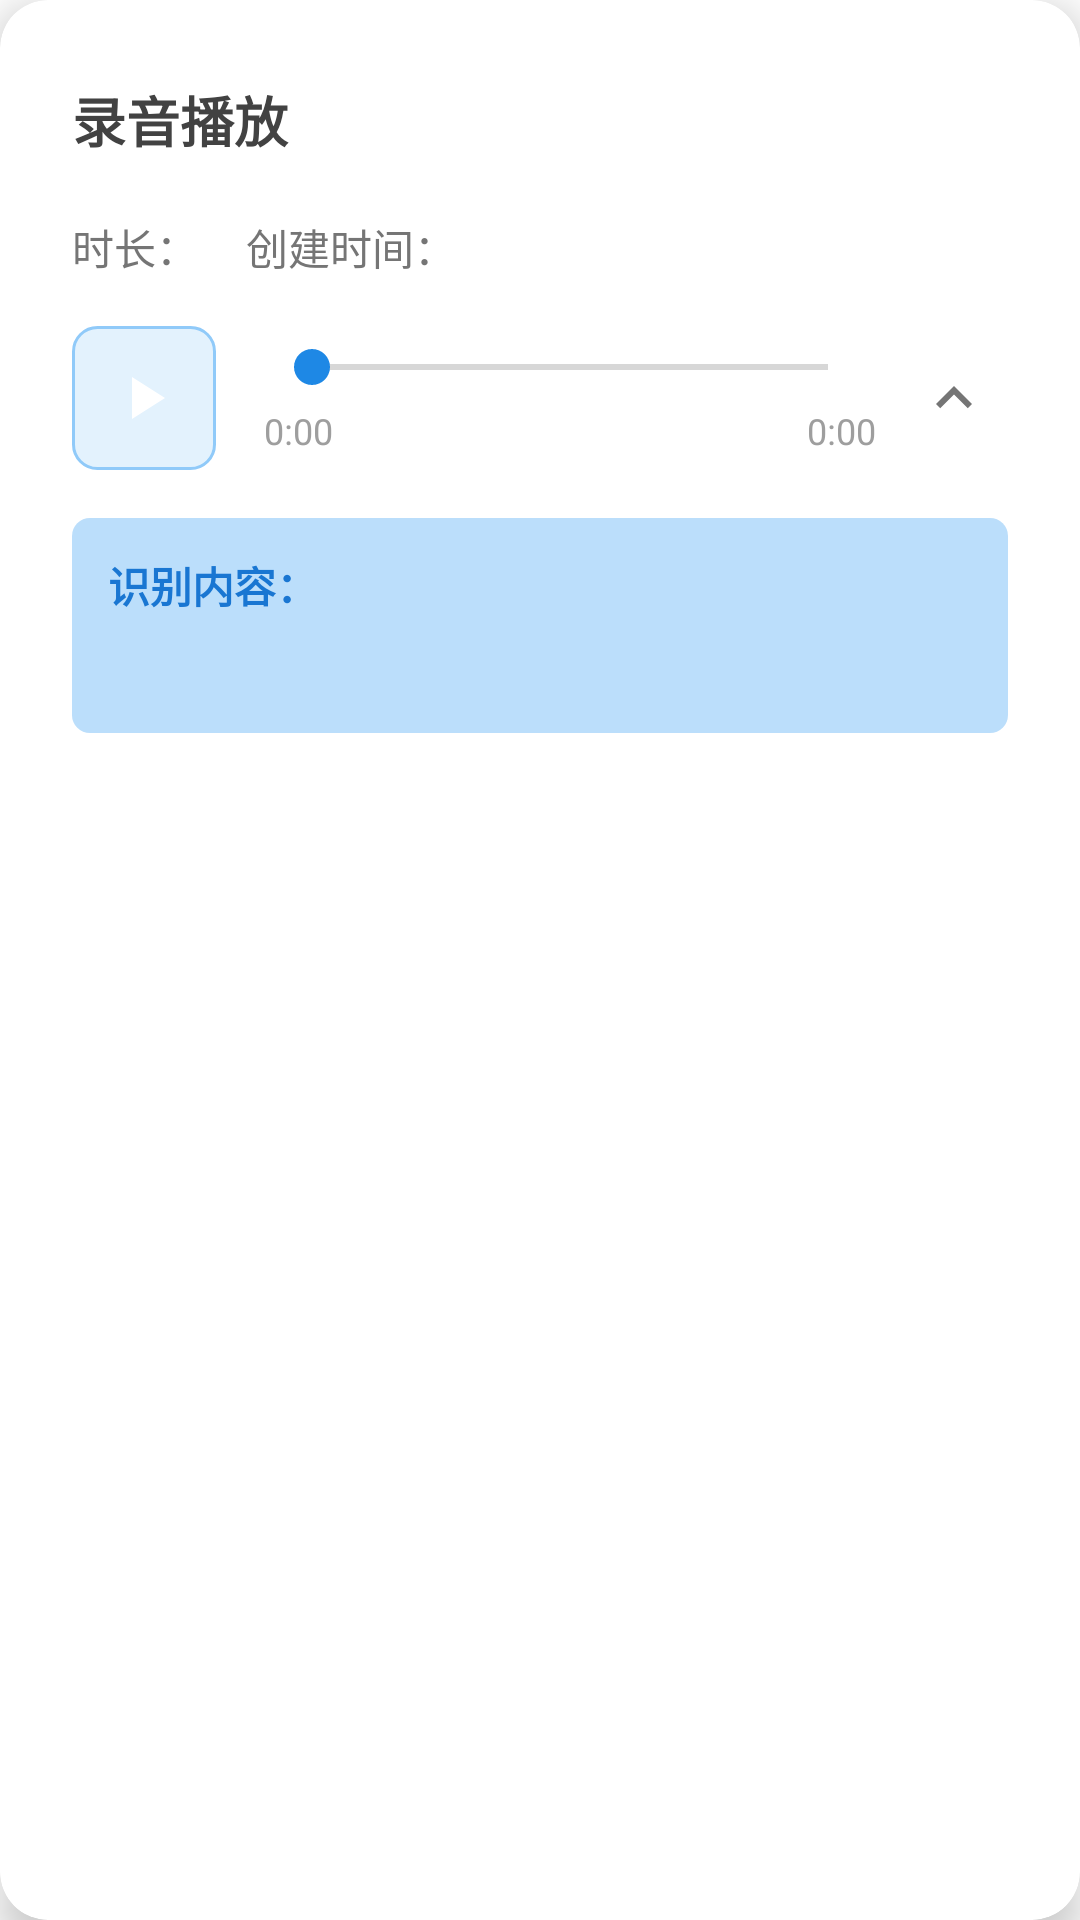

Where icons sit on this 1080*1920 app screen, as rect(x1, y1, x2, y2):
expand less: rect(936, 386, 972, 408)
play: rect(72, 326, 216, 470)
